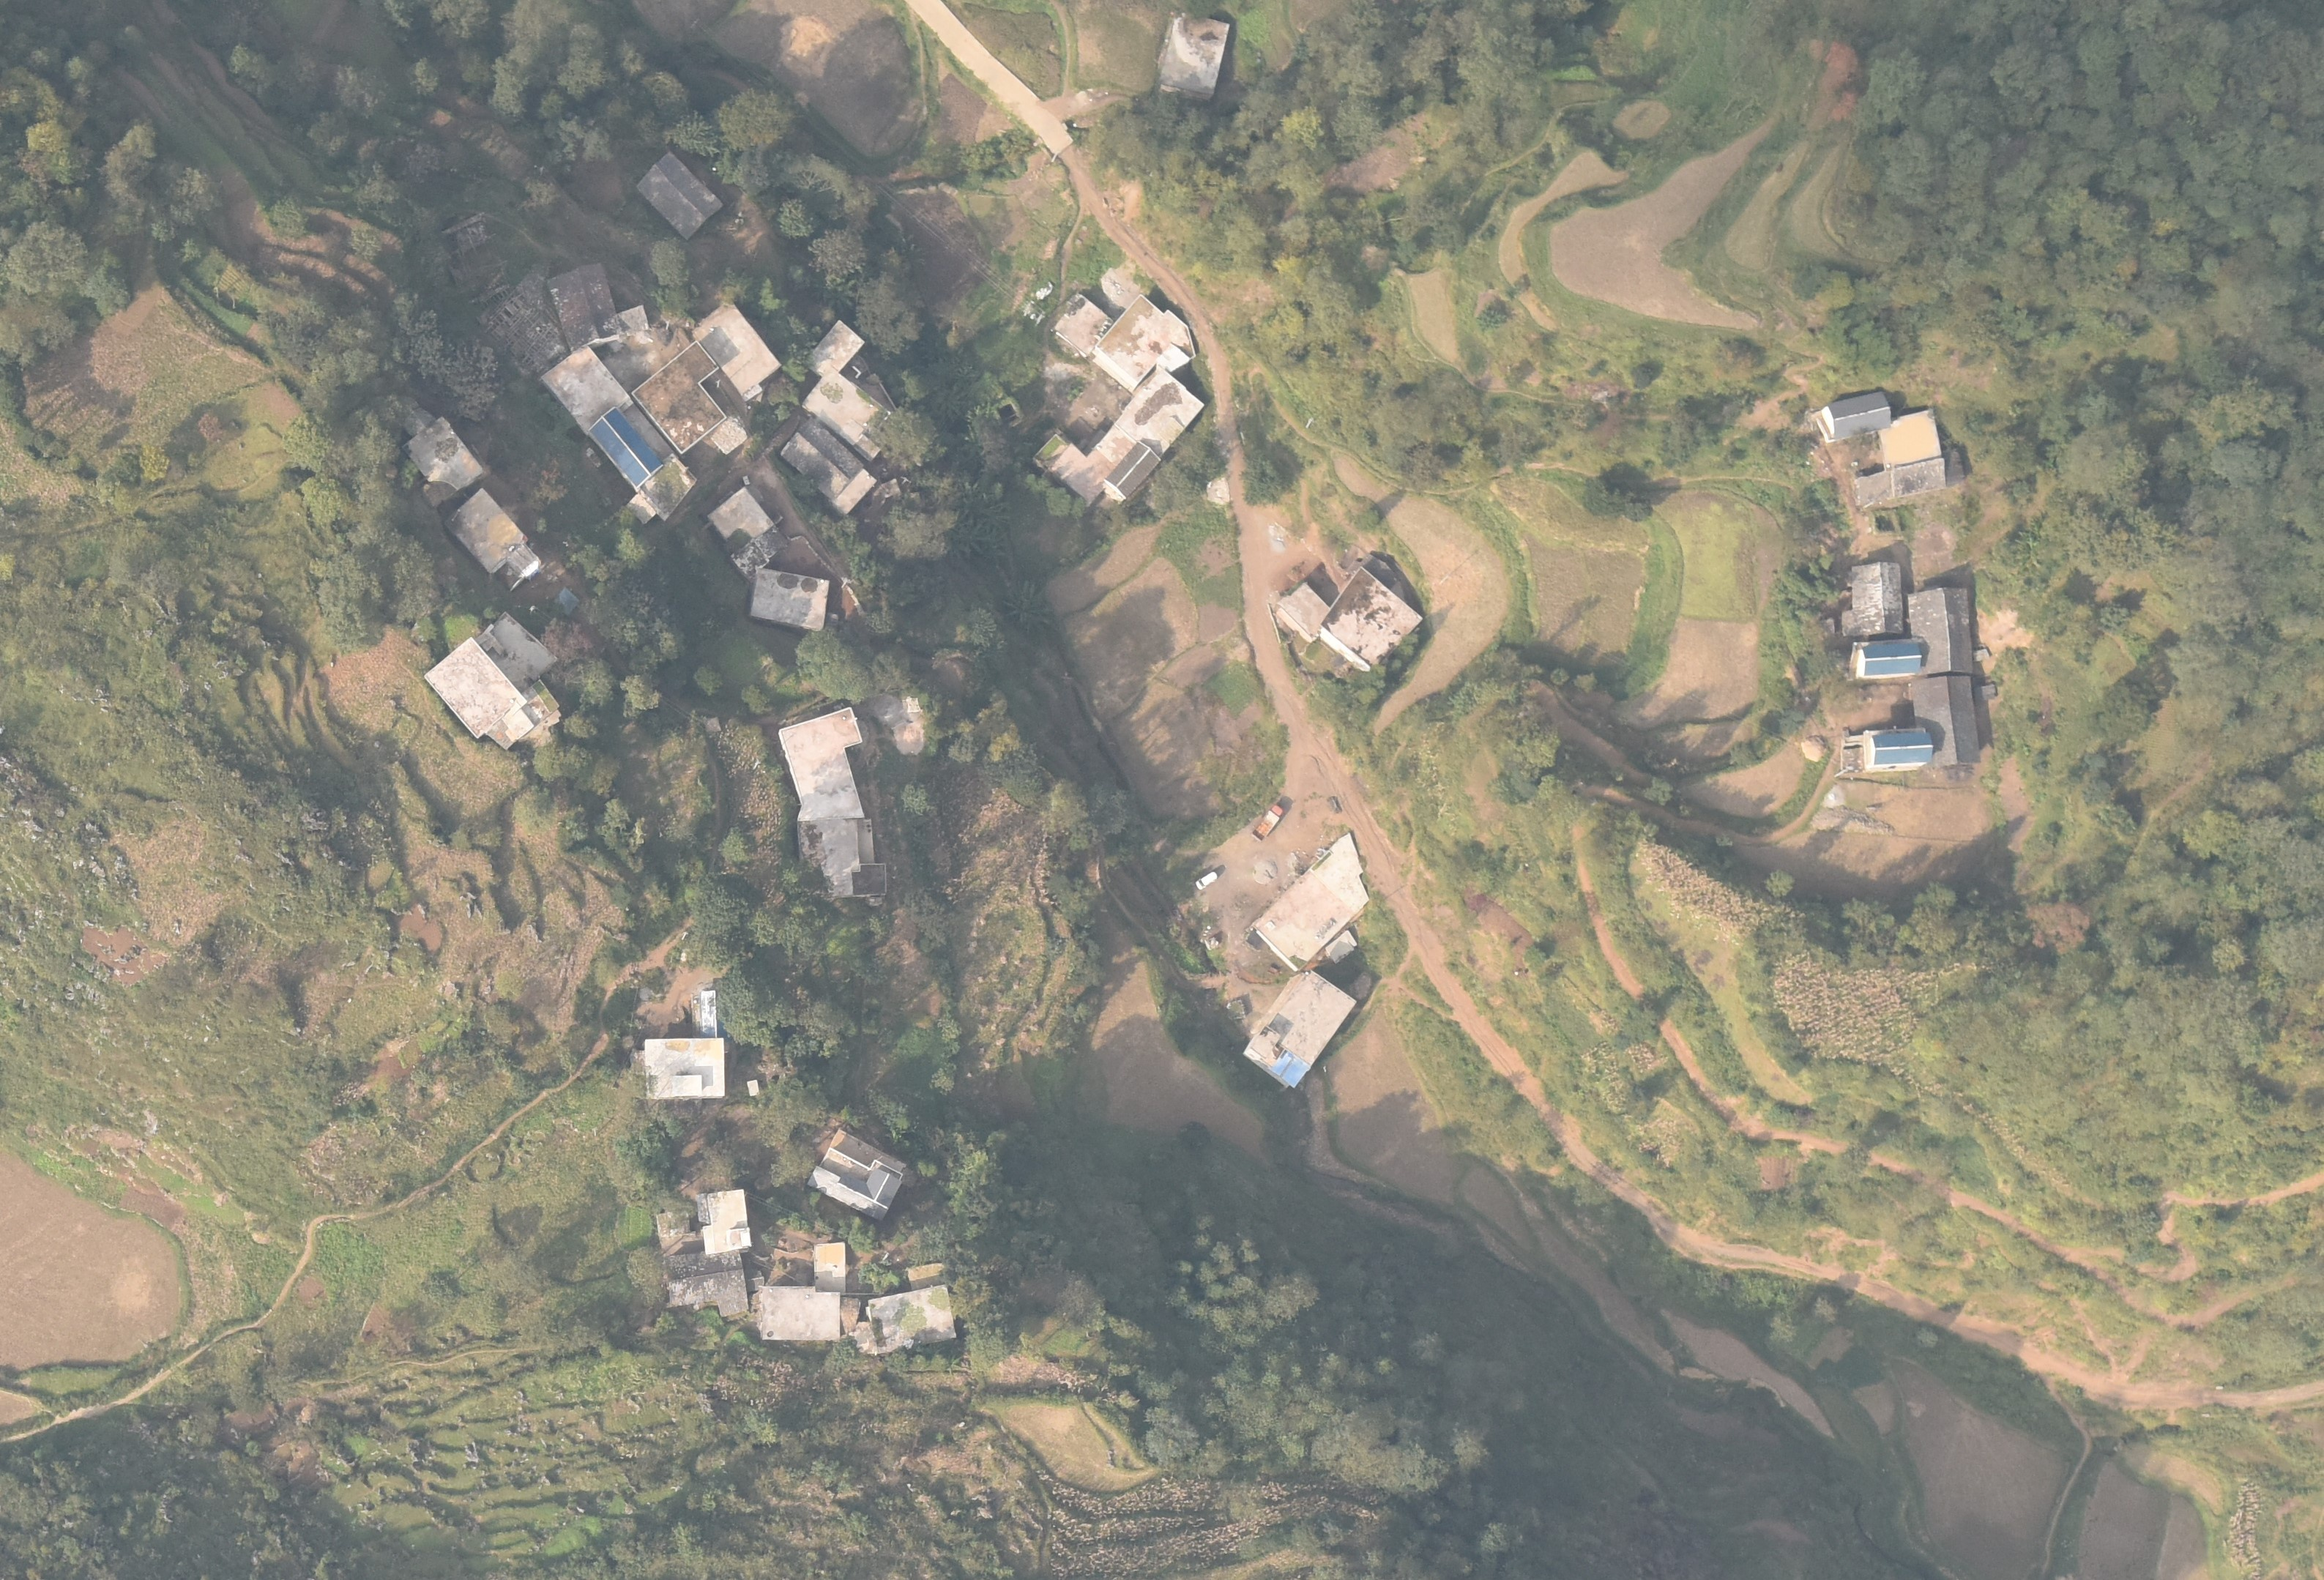building: (1035, 370, 1204, 504), (777, 707, 889, 900), (422, 609, 558, 750), (1254, 832, 1370, 969), (1241, 968, 1357, 1089), (1321, 564, 1423, 671), (630, 338, 726, 446), (1098, 293, 1199, 389), (447, 488, 540, 587), (1853, 410, 1945, 504), (809, 1130, 905, 1218), (695, 302, 781, 400), (801, 368, 887, 457), (781, 418, 865, 506), (543, 345, 628, 430), (856, 1282, 957, 1354), (636, 154, 720, 238), (403, 417, 485, 501), (1155, 12, 1229, 100), (666, 1253, 763, 1319), (551, 261, 620, 350), (710, 485, 781, 571), (1916, 677, 1981, 769), (1916, 589, 1975, 673), (645, 1038, 726, 1098), (1842, 563, 1907, 634), (759, 1283, 841, 1339), (753, 571, 829, 630), (629, 456, 696, 523), (1818, 387, 1890, 434), (701, 1188, 753, 1253), (1051, 297, 1107, 355), (808, 321, 863, 381), (1106, 441, 1163, 498), (1275, 583, 1330, 638), (815, 1240, 846, 1292), (396, 400, 429, 433), (1327, 930, 1357, 962)
cable-tower: (1023, 300, 1044, 325), (1833, 765, 1854, 778), (841, 577, 851, 589), (1306, 417, 1313, 429), (753, 759, 761, 769), (901, 476, 910, 485), (715, 377, 720, 388), (592, 1126, 597, 1136), (539, 165, 544, 176), (665, 319, 669, 329)
prefabricated-house: (589, 407, 663, 488), (1860, 642, 1923, 677), (1871, 731, 1934, 764), (1271, 1049, 1311, 1089)
vehicle: (1250, 804, 1284, 843), (1194, 871, 1218, 890), (1328, 796, 1341, 813)
